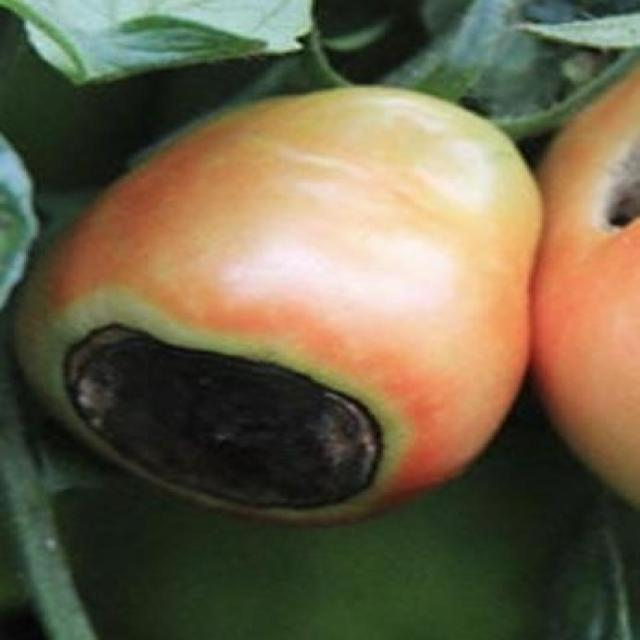Blossom End Rot Fruit: (33, 67, 409, 276)
